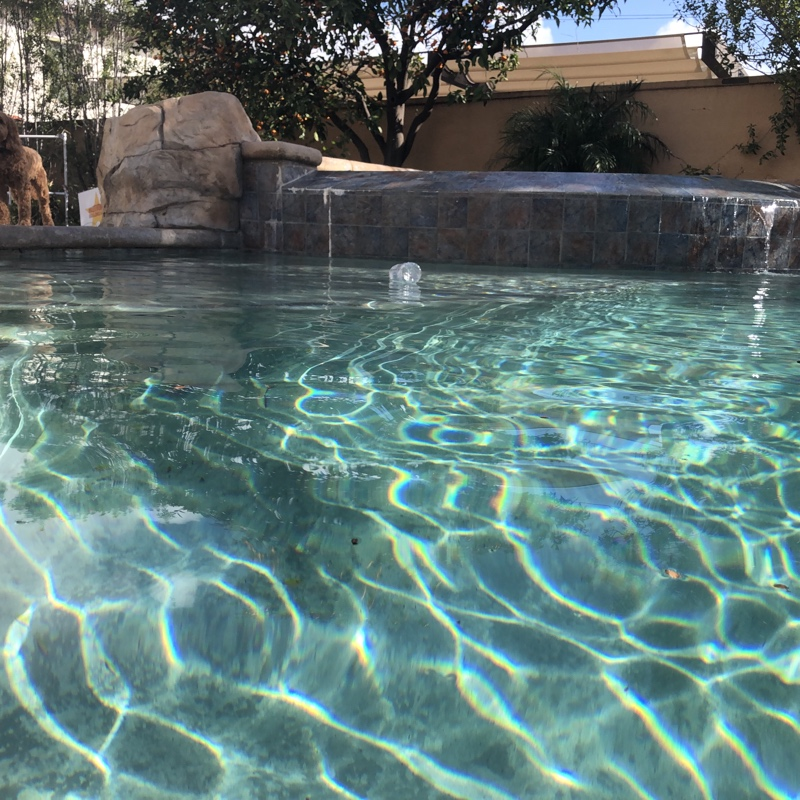Plastic Bottle: (386, 260, 422, 287)
